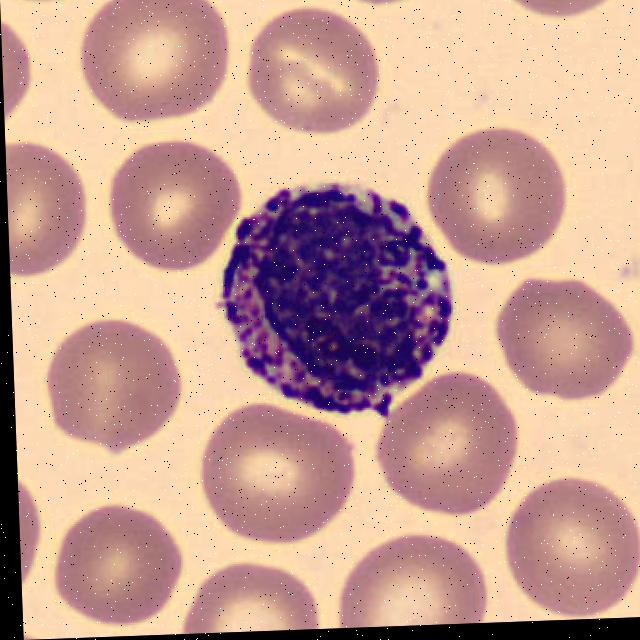basophil: (219, 183, 458, 411)
rbc: (372, 370, 519, 527), (196, 396, 350, 534), (498, 464, 640, 612), (433, 121, 576, 263), (43, 317, 190, 441), (257, 6, 387, 130), (493, 277, 630, 393), (86, 0, 231, 109), (60, 496, 185, 617), (109, 141, 242, 254), (334, 534, 489, 628), (186, 546, 321, 634), (5, 132, 86, 270), (498, 0, 632, 19), (316, 0, 453, 8)
